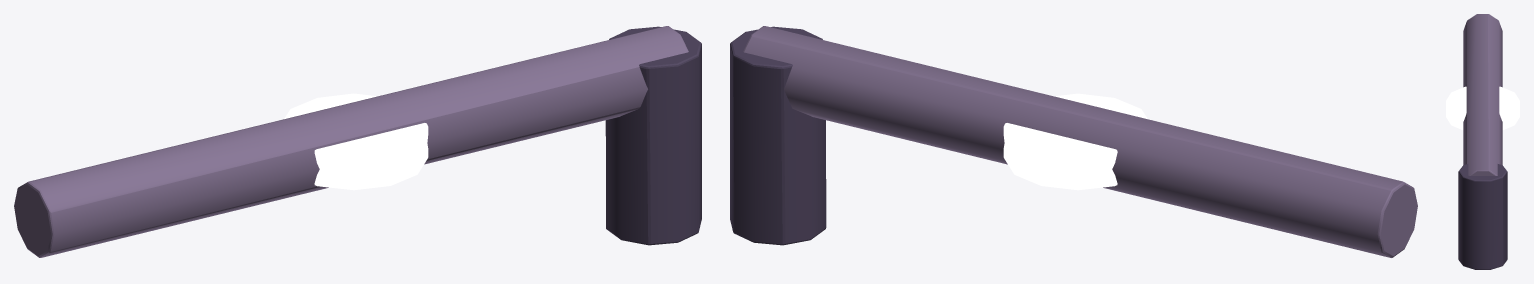
Rendered from SM_Labor_Pipe_LOD1.fbx.
3 views of the same model, side by side, from view 1: azimuth 30°, elevation 25°; view 2: azimuth 150°, elevation 25°; view 3: azimuth 270°, elevation 25° (orthographic). The views are drawn at different scales.
Parts seen in each view (by area): view 1: SM_Labor_Pipe_LOD1; view 2: SM_Labor_Pipe_LOD1; view 3: SM_Labor_Pipe_LOD1.
Boxes of the visible parts, left/top/right/bottom form: SM_Labor_Pipe_LOD1: left=14, top=26, right=701, bottom=257; SM_Labor_Pipe_LOD1: left=730, top=26, right=1417, bottom=257; SM_Labor_Pipe_LOD1: left=1446, top=14, right=1519, bottom=269.
Size of the model in its own units: 3.09 by 0.8522 by 0.5977.
